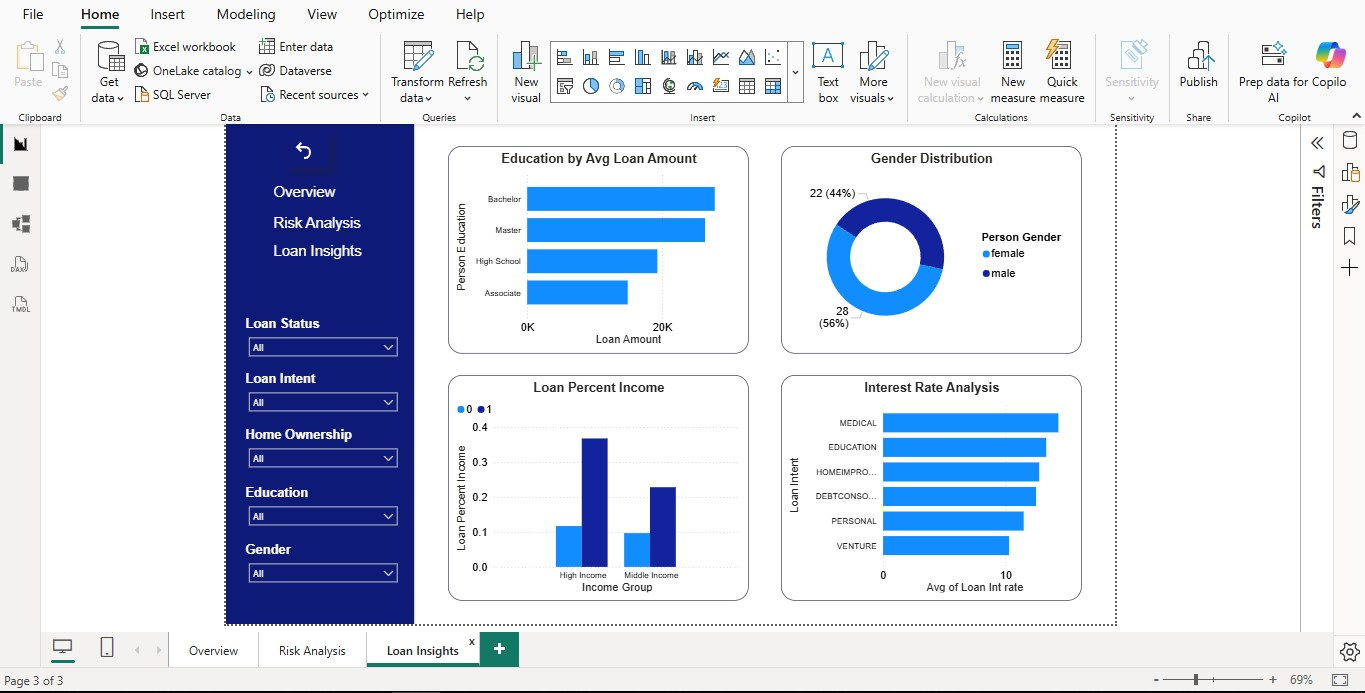

This screenshot's page, from the dashboard's own definition file:
{"tool":"powerbi","page":{"name":"Loan Insights","canvas":[1280,720],"ordinal":2},"visuals":[{"type":"shape","box":[0,0,271.5,720.9],"z":0},{"type":"slicer","title":"Loan Status","fields":{"Values":["loan_data_set.loan_status"]},"box":[23.4,276.8,233.7,66.5],"z":1000},{"type":"slicer","title":"Loan Intent","fields":{"Values":["loan_data_set.loan_intent"]},"box":[23.4,355.9,233.7,66.5],"z":2000},{"type":"slicer","title":"Home Ownership","fields":{"Values":["loan_data_set.person_home_ownership"]},"box":[23.4,436.8,233.7,66.5],"z":3000},{"type":"slicer","title":"Education","fields":{"Values":["loan_data_set.person_education"]},"box":[23.4,519.5,233.7,66.5],"z":4000},{"type":"slicer","title":"Gender","fields":{"Values":["loan_data_set.person_gender"]},"box":[23.4,602.2,233.7,66.5],"z":5000},{"type":"textbox","box":[63.3,80,193.3,43.3],"z":6000},{"type":"textbox","box":[63.3,125,193.3,40],"z":7000},{"type":"textbox","box":[63.3,165,193.3,40],"z":8000},{"type":"actionButton","box":[63.3,80,158.3,33.3],"z":9000},{"type":"actionButton","box":[63.3,123.3,163.3,33.3],"z":10000},{"type":"actionButton","box":[63.3,165,163.3,33.3],"z":11000},{"type":"actionButton","box":[87.8,14,59.7,47.4],"z":12000},{"type":"barChart","title":"Education by Avg Loan Amount","fields":{"Category":["loan_data_set.person_education"],"Y":["Avg(loan_data_set.loan_amnt)"]},"box":[320,32.2,432.6,298.5],"z":12001},{"type":"donutChart","title":"Gender Distribution","fields":{"Category":["loan_data_set.person_gender"],"Y":["CountNonNull(loan_data_set.person_gender)"]},"box":[799.1,32.2,432.6,298.5],"z":12002},{"type":"clusteredColumnChart","title":"Loan Percent Income","fields":{"Series":["loan_data_set.loan_status"],"Y":["Avg(loan_data_set.loan_percent_income)"],"Category":["loan_data_set.Income Per group"]},"box":[320,361.1,432.6,325.4],"z":12003},{"type":"barChart","title":"Interest Rate Analysis","fields":{"Category":["loan_data_set.loan_intent"],"Y":["Avg(loan_data_set.loan_int_rate)"]},"box":[799.1,361.1,432.6,325.4],"z":12004}]}

Visuals, with their boxes on the page's 1280x720 design canvas (x1, y1, x2, y2). These are canvas units, not pixel positions in the 1365x693 screenshot, which may show the page scaled, cropped or inside an application window:
shape: [0, 0, 272, 721]
"Loan Status" slicer: [23, 277, 257, 343]
"Loan Intent" slicer: [23, 356, 257, 422]
"Home Ownership" slicer: [23, 437, 257, 503]
"Education" slicer: [23, 520, 257, 586]
"Gender" slicer: [23, 602, 257, 669]
textbox: [63, 80, 257, 123]
textbox: [63, 125, 257, 165]
textbox: [63, 165, 257, 205]
actionButton: [63, 80, 222, 113]
actionButton: [63, 123, 227, 157]
actionButton: [63, 165, 227, 198]
actionButton: [88, 14, 148, 61]
"Education by Avg Loan Amount" barChart: [320, 32, 753, 331]
"Gender Distribution" donutChart: [799, 32, 1232, 331]
"Loan Percent Income" clusteredColumnChart: [320, 361, 753, 686]
"Interest Rate Analysis" barChart: [799, 361, 1232, 686]
